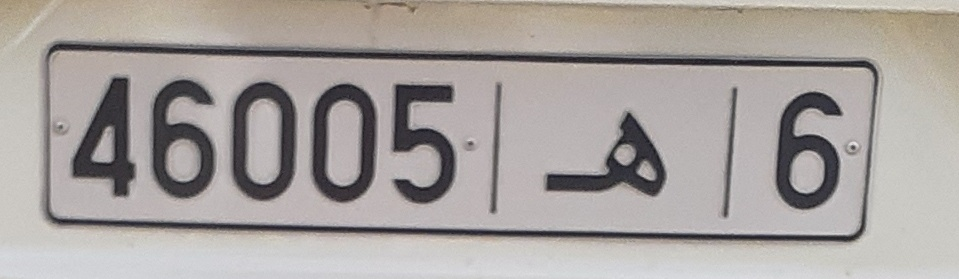0: (228, 70, 307, 206), (307, 76, 379, 214)
4: (64, 65, 141, 206)
5: (385, 73, 463, 216)
6: (141, 69, 225, 206), (769, 83, 847, 214)
h: (536, 104, 678, 207)
